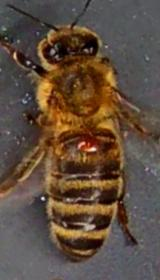varroa_mite: (71, 132, 104, 153)
